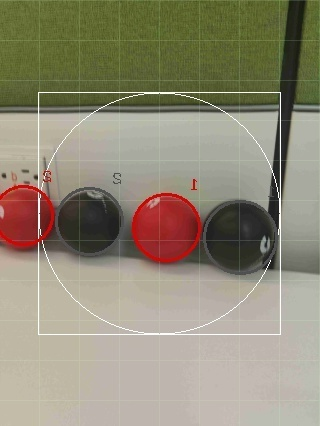Pelota negra: (202, 198, 278, 275), (55, 185, 124, 259)
Pelota roja: (130, 190, 204, 264), (0, 182, 57, 248), (191, 177, 199, 192)
